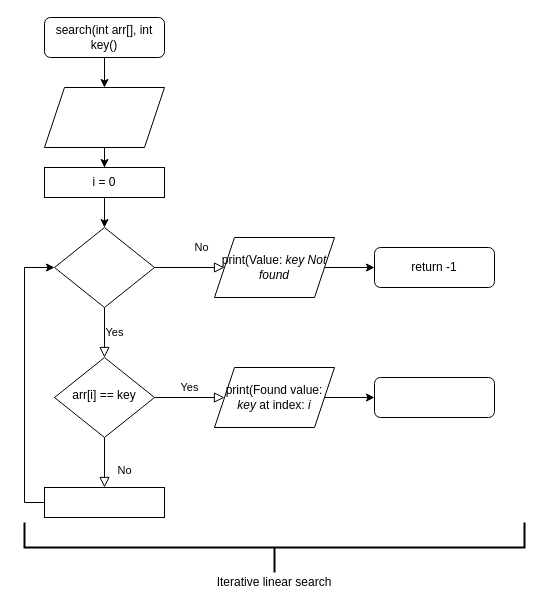
This 543x615 diagram has some shape labels left out. Each missing label, with the centre of its shape:
"i < key" belongs at pixel 104 267.
"i++" belongs at pixel 104 502.
"len = arr.length" belongs at pixel 104 117.
"return i" belongs at pixel 434 397.
